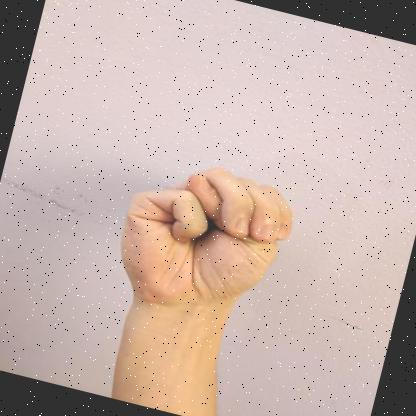M: (121, 168, 292, 329)
